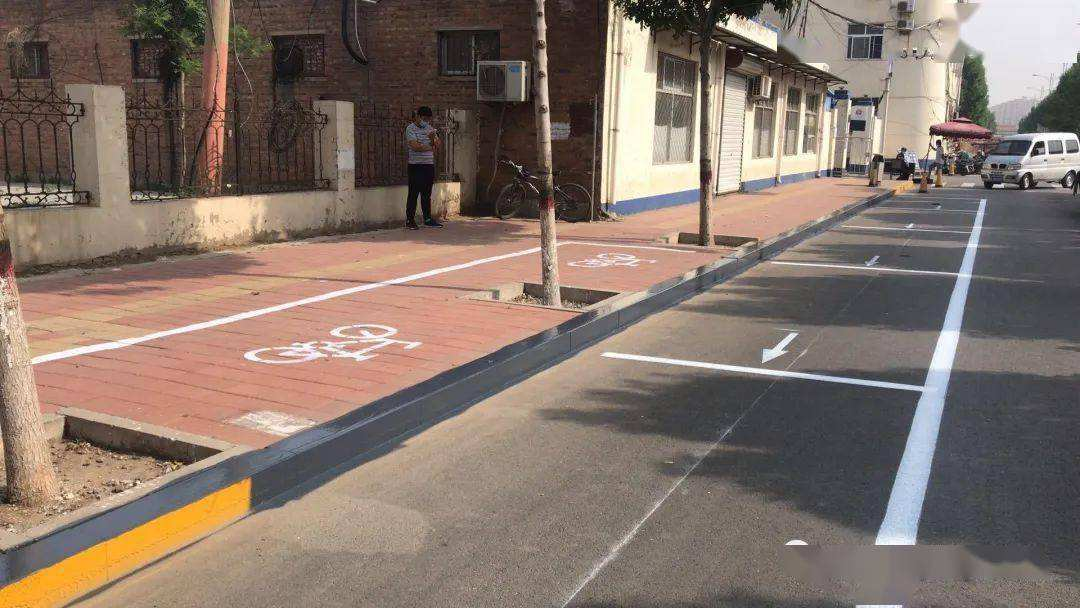slot_nocar: (239, 332, 971, 601), (562, 245, 984, 406), (737, 213, 994, 282), (851, 192, 991, 234)
